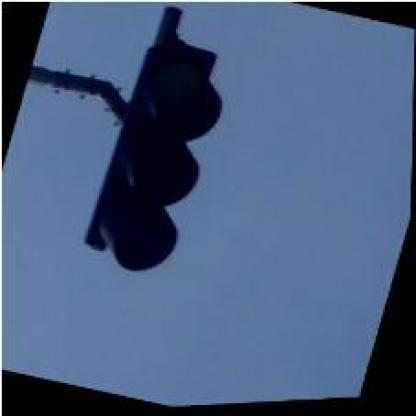green: (78, 31, 237, 284)
